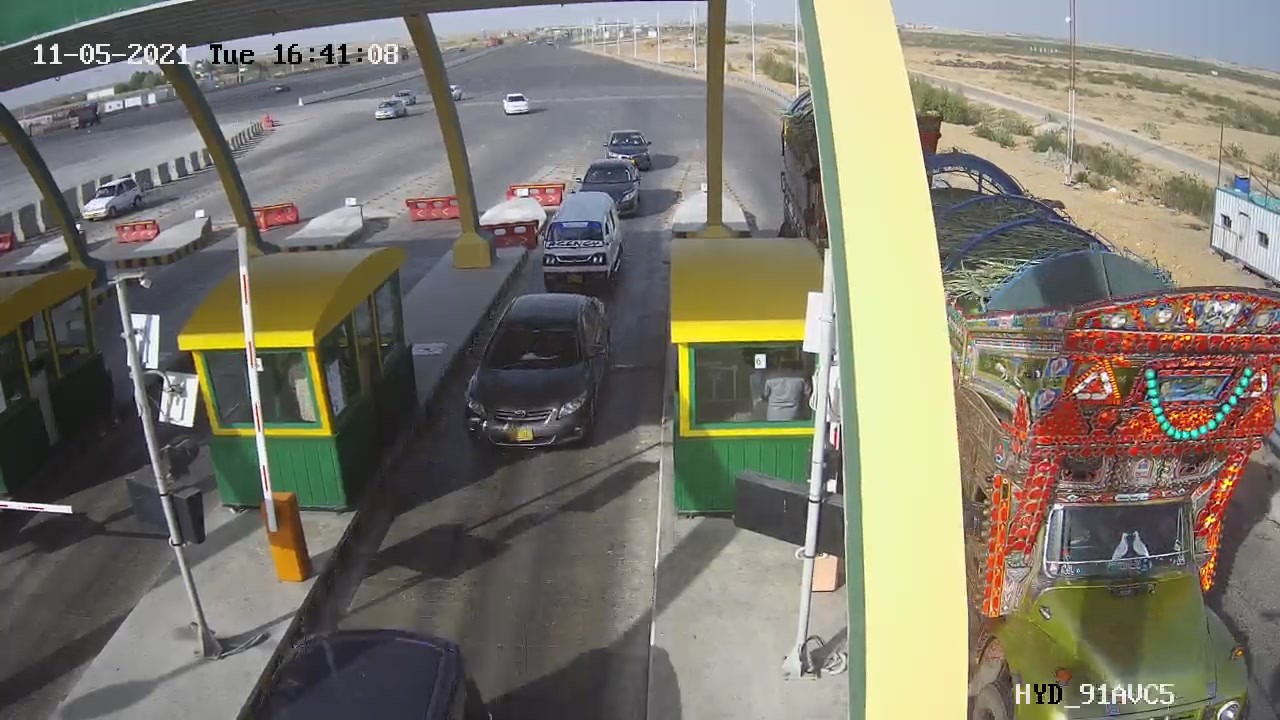F1: (453, 284, 628, 464), (528, 185, 641, 297)
